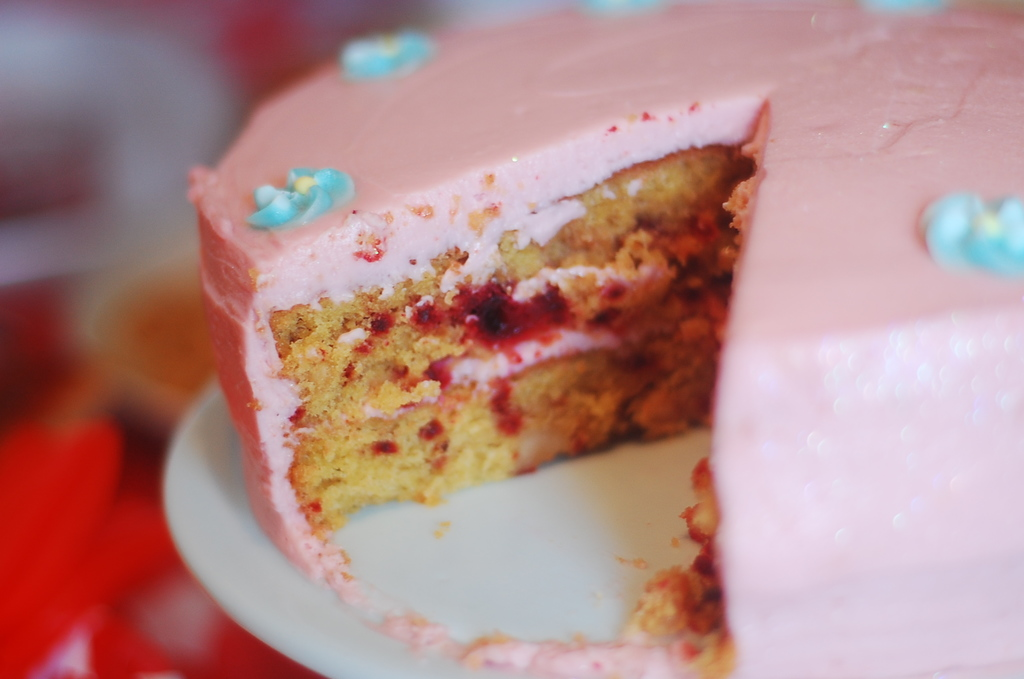cake: (188, 0, 1023, 678)
